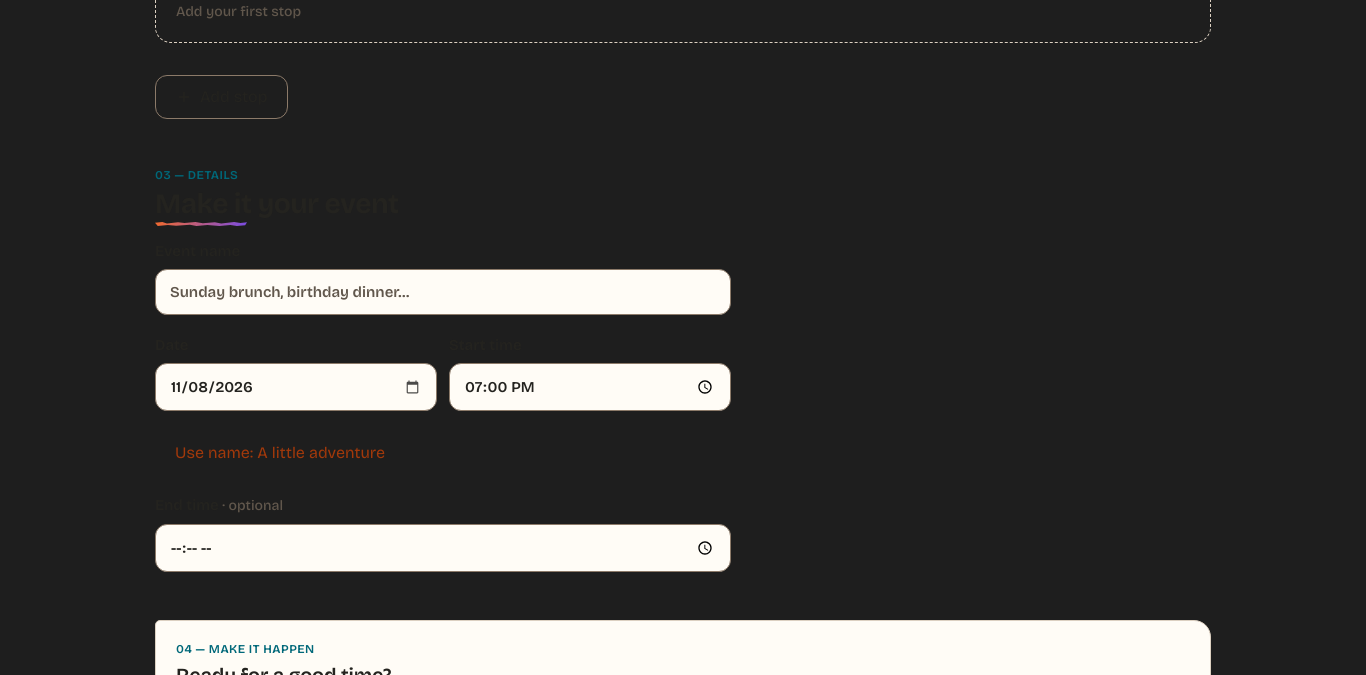
Test: unified planner interactions › supports keyboard reorder on drag handles and displays separate per-leg estimates
(page scrolled)
Step 1. Type "QA night" into the field labelled "Event name" → (443, 292), box [155,269,731,315]
(page scrolled)
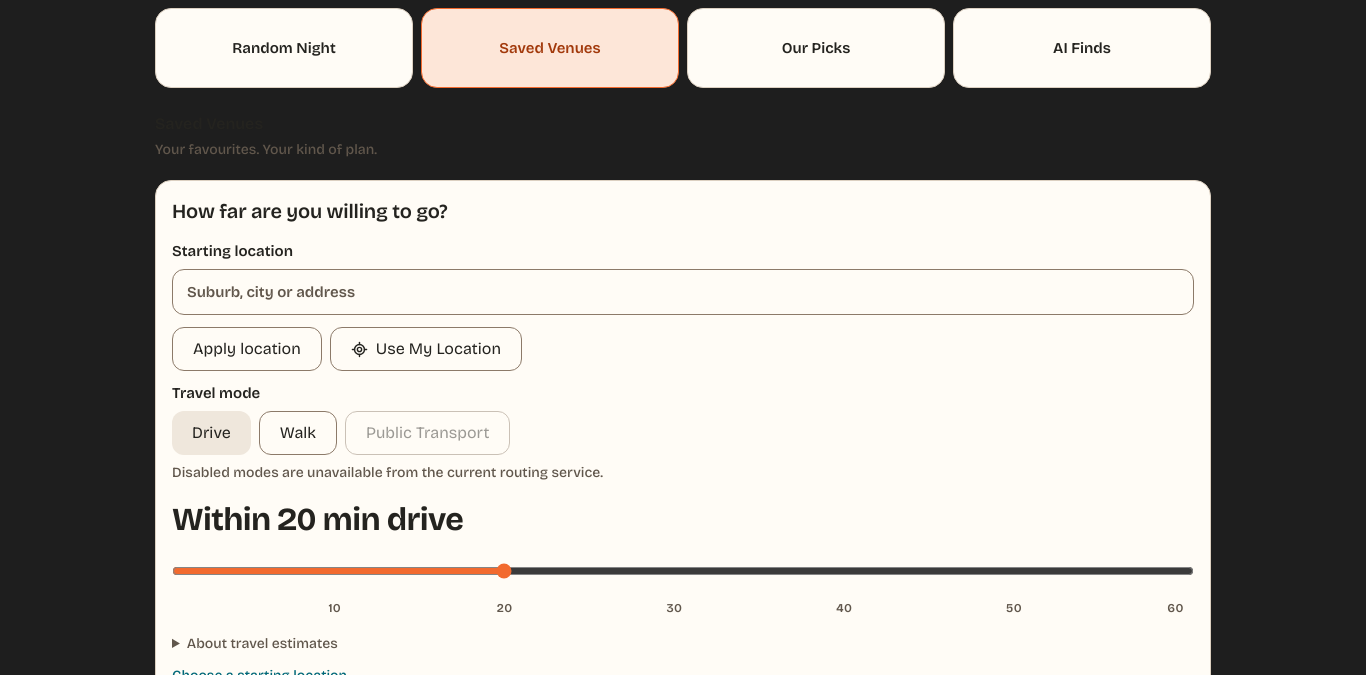
Step 2. Type "Sydney" into the field labelled "Starting location" → (683, 292), box [172,269,1194,315]
Step 3. Click the button "Apply location" → (247, 349), box [172,327,322,371]
(page scrolled)
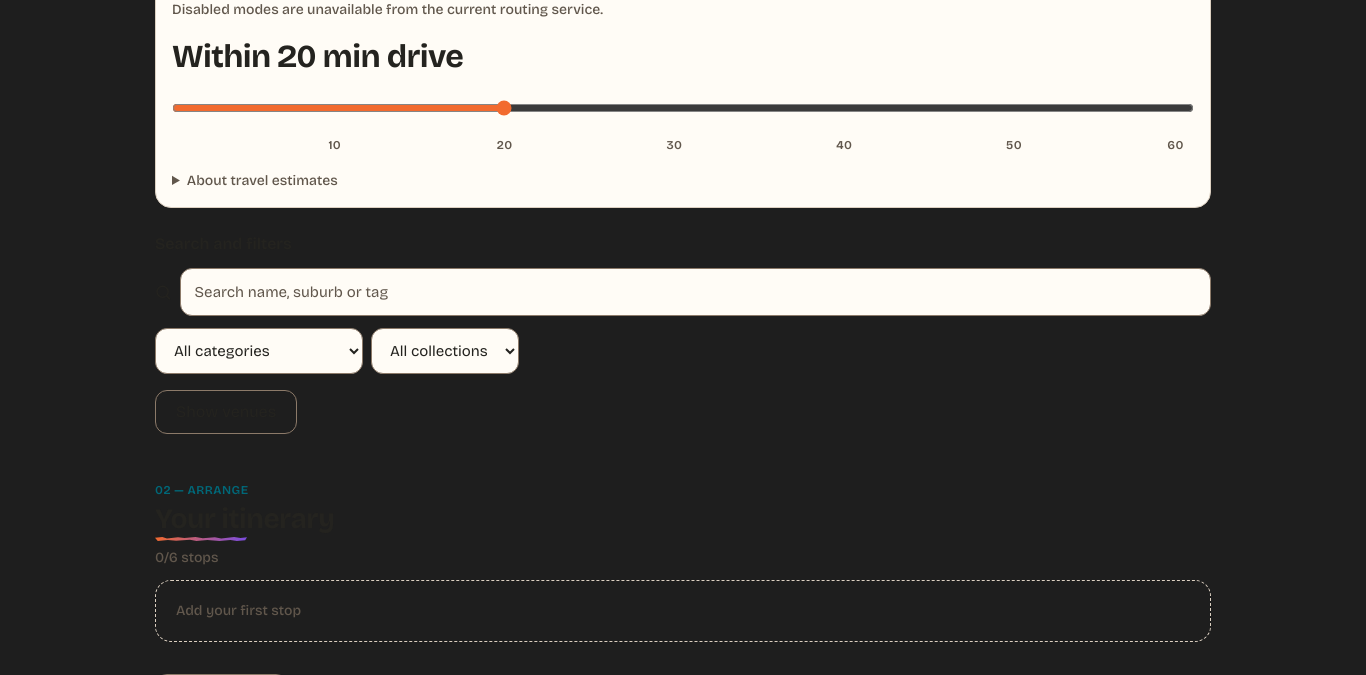
Step 4. Click the field named "Search venues" → (695, 292), box [180,268,1211,316]
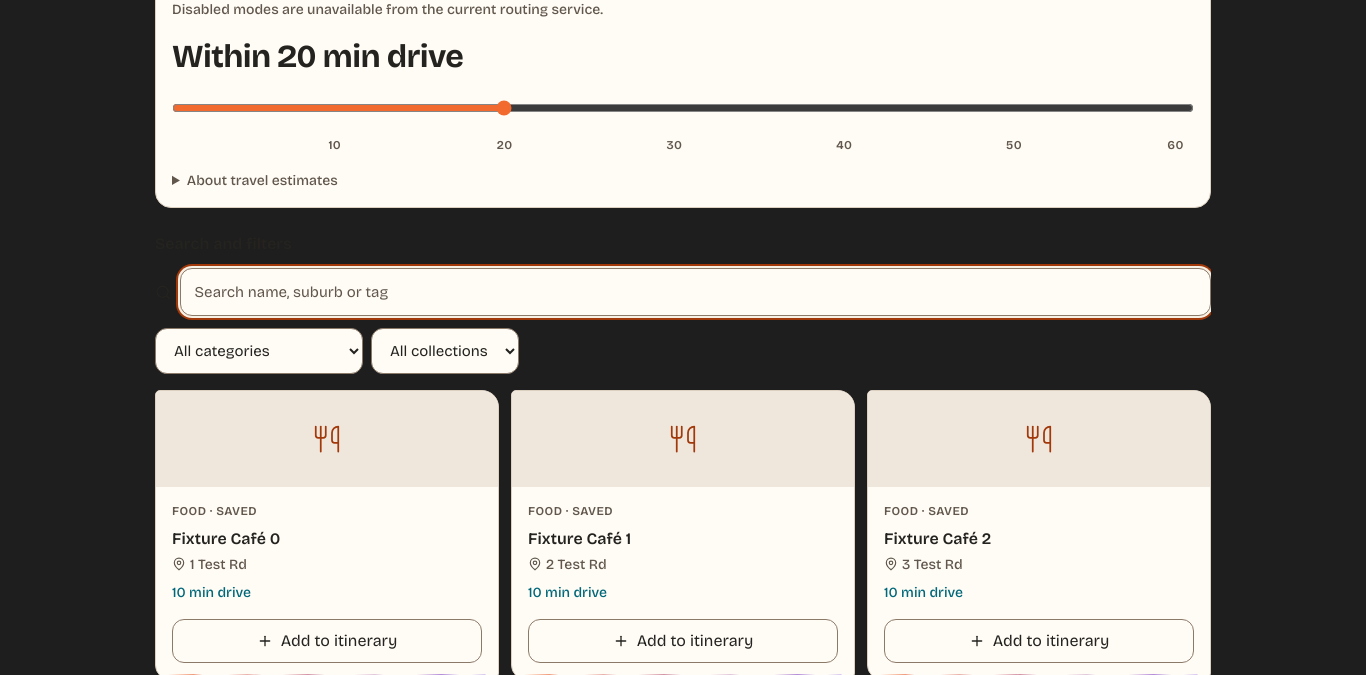
Check: the heading "Fixture Café 0" is shown, box [172,529,280,548]
Step 5. Click the button "Add to itinerary" below "1 Test Rd" → (327, 641), box [172,619,482,663]
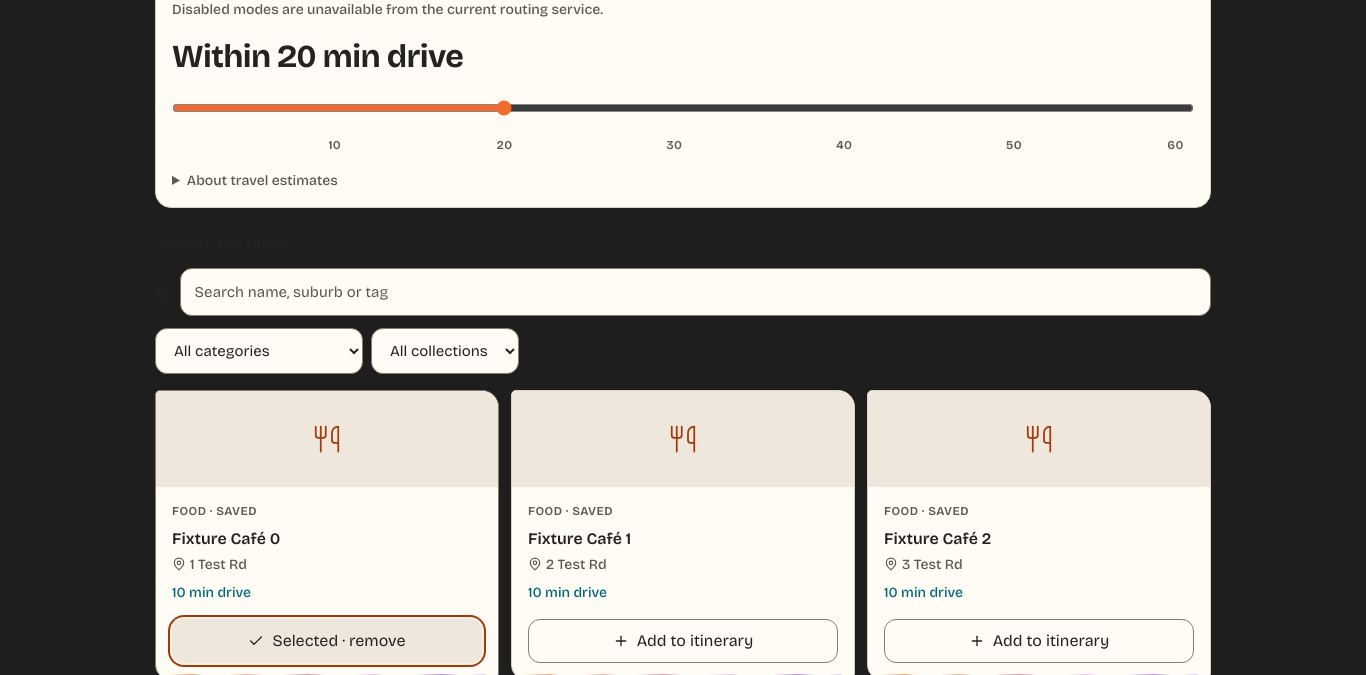
Step 6. Click the button "Add to itinerary" below "2 Test Rd" → (683, 641), box [528,619,838,663]
(page scrolled)
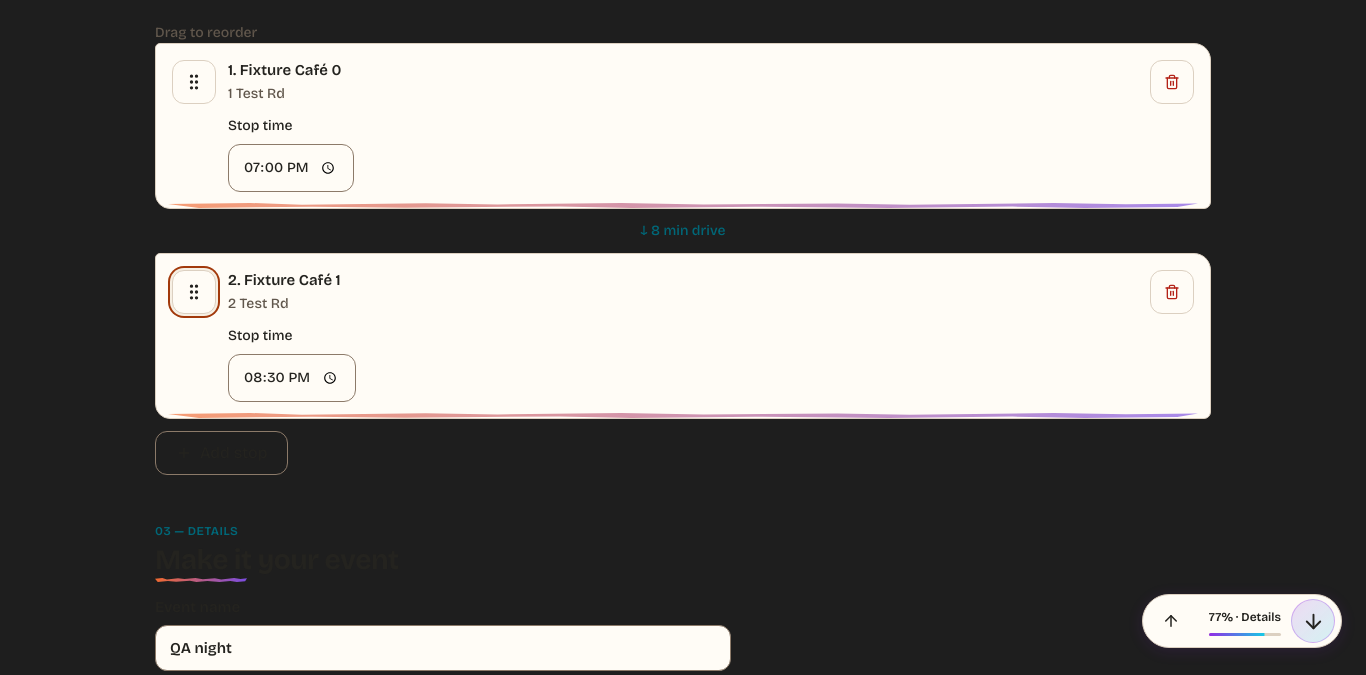
Check: the text "↓ 8 min drive" is shown, box [641,222,725,239]
Step 7. Press Arrowup
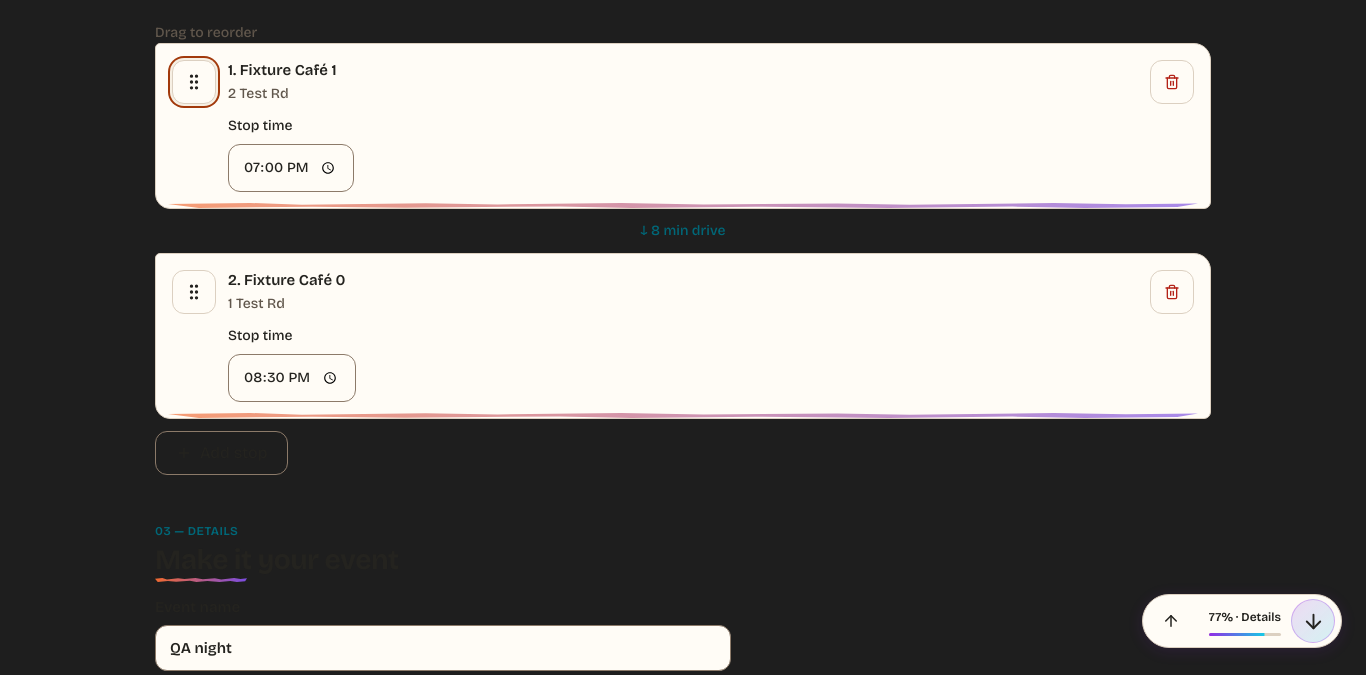
Check: the headings read "1. Fixture Café 1", "2. Fixture Café 0", in this order, box [228,61,336,79]; [228,271,346,289]
